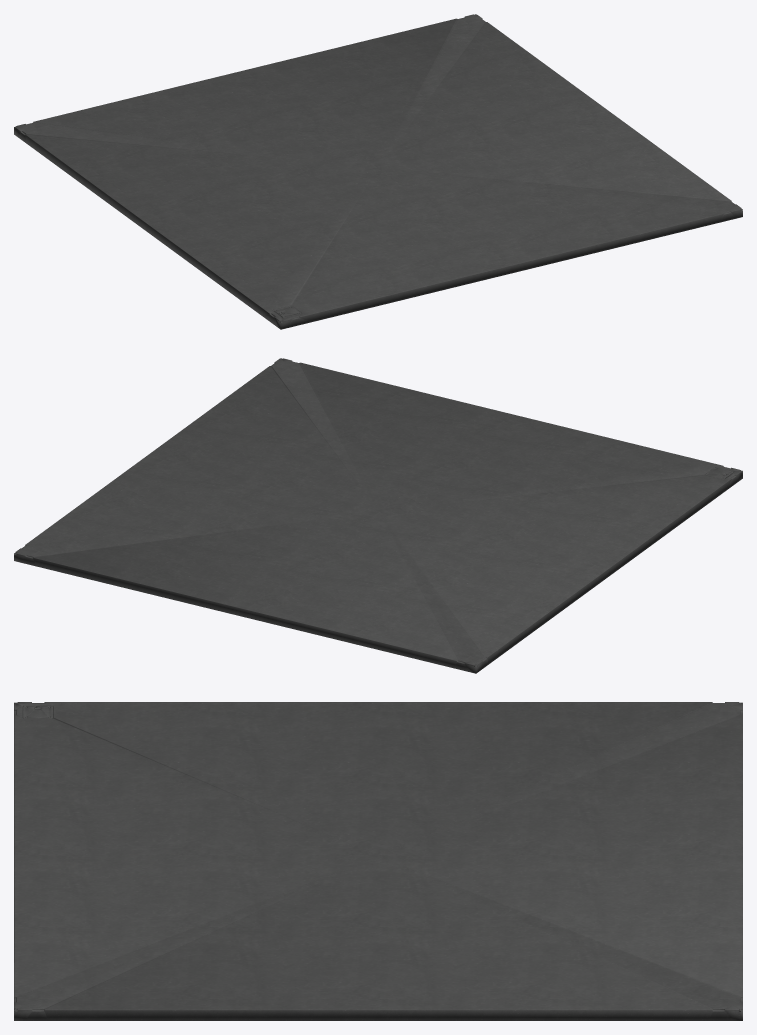
Rendered from parking-floor.glb.
3 renders of one model, top to bottom at view 1: azimuth 30°, elevation 25°; view 2: azimuth 150°, elevation 25°; view 3: azimuth 270°, elevation 25°, orthographic. The views are drawn at different scales.
Parts seen in each view (by area): view 1: geometry_0; view 2: geometry_0; view 3: geometry_0.
Part boxes in pixels (box(x1,y1,x2,y2)): geometry_0: box(14, 14, 742, 329); geometry_0: box(14, 358, 742, 673); geometry_0: box(14, 702, 742, 1020).
Size of the model in its own units: 6 by 0.1015 by 6.
Materials: 1 (1 with a texture image).
